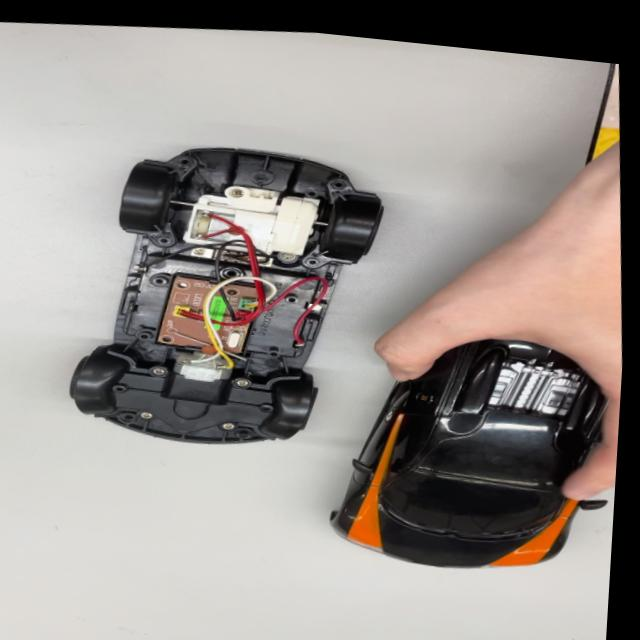Chassis: (56, 117, 401, 474)
vehicle_body: (306, 288, 625, 602)
